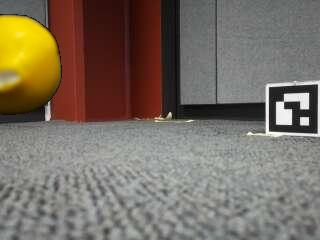lemon: (0, 16, 60, 115)
